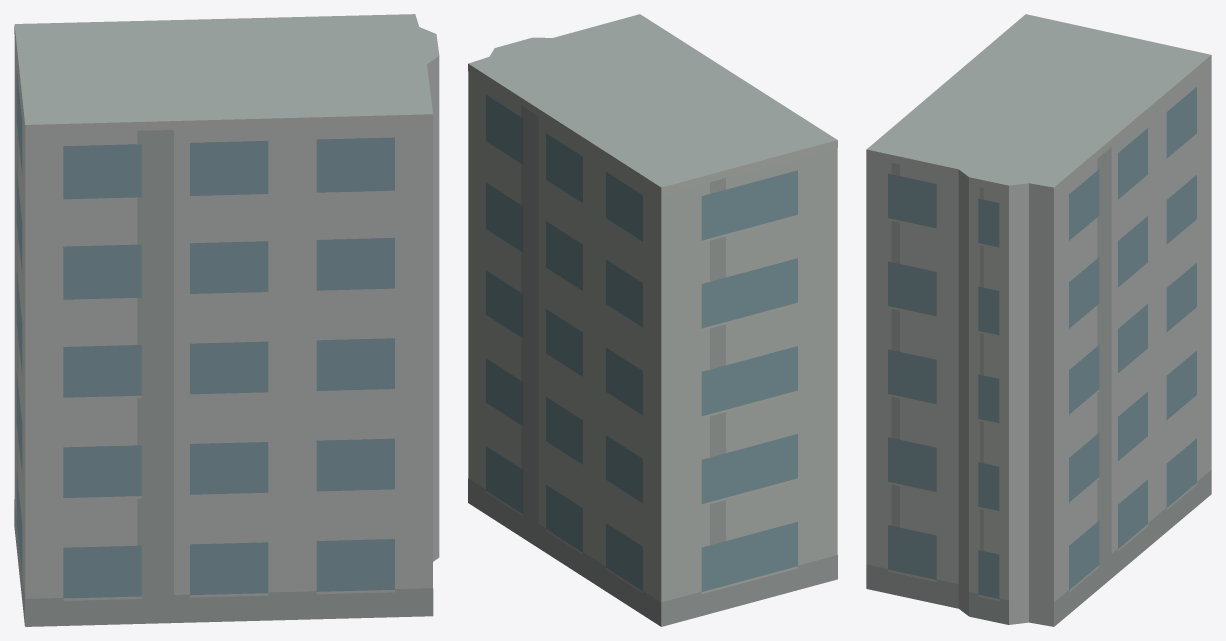
Rendered from survey-upis-32730419.glb.
3 renders of one model, left to right at view 1: azimuth 30°, elevation 25°; view 2: azimuth 150°, elevation 25°; view 3: azimuth 270°, elevation 25°, orthographic. The views are drawn at different scales.
Visible parts, largest first — view 1: survey-upis-32730419.tmp; view 2: survey-upis-32730419.tmp; view 3: survey-upis-32730419.tmp.
Part boxes in pixels (x1,y1,x2,y2): survey-upis-32730419.tmp: (14,14,439,626); survey-upis-32730419.tmp: (468,14,837,626); survey-upis-32730419.tmp: (866,14,1211,626).
Bounding box in the file's own units: 11.7 × 13.8 × 9.83.
